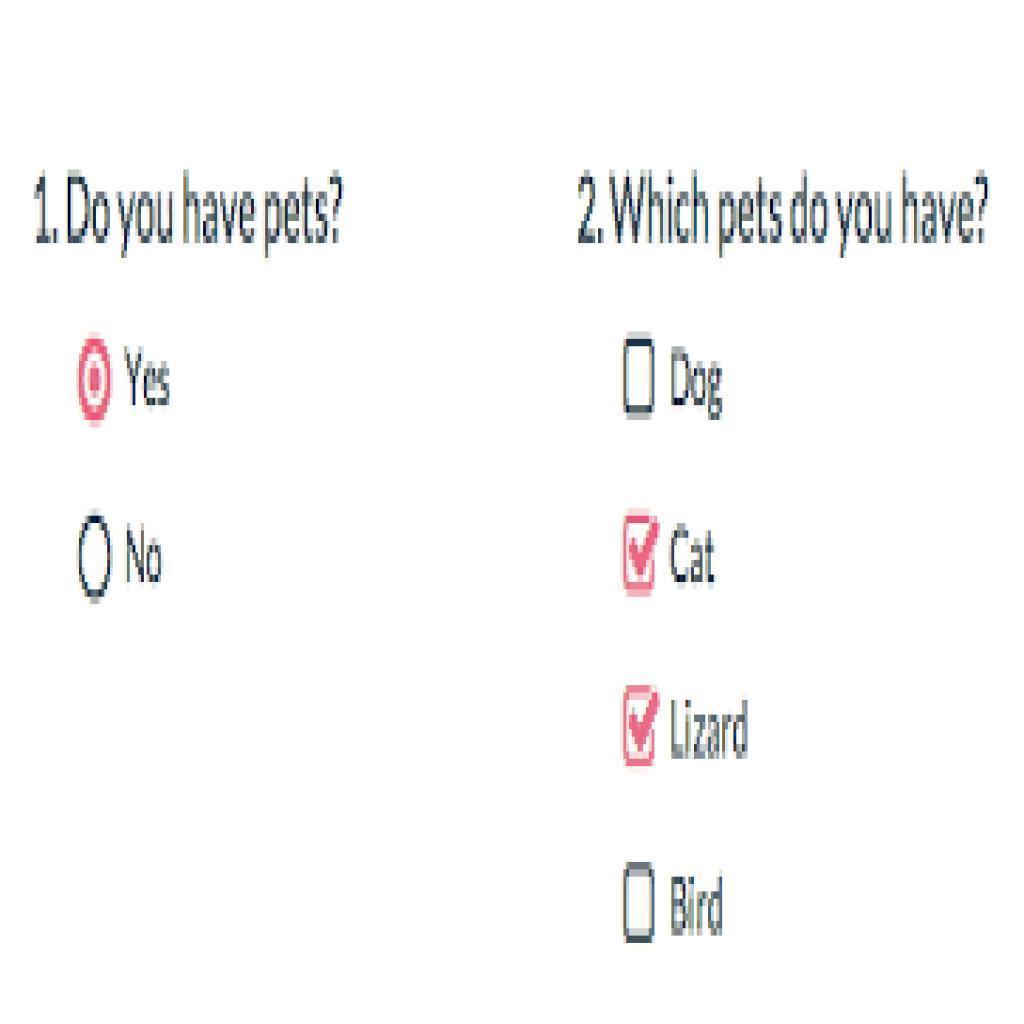checkbox: (621, 520, 662, 592), (620, 337, 657, 414), (621, 869, 656, 940), (622, 689, 658, 755)
radio: (73, 332, 119, 429), (73, 513, 113, 606)
